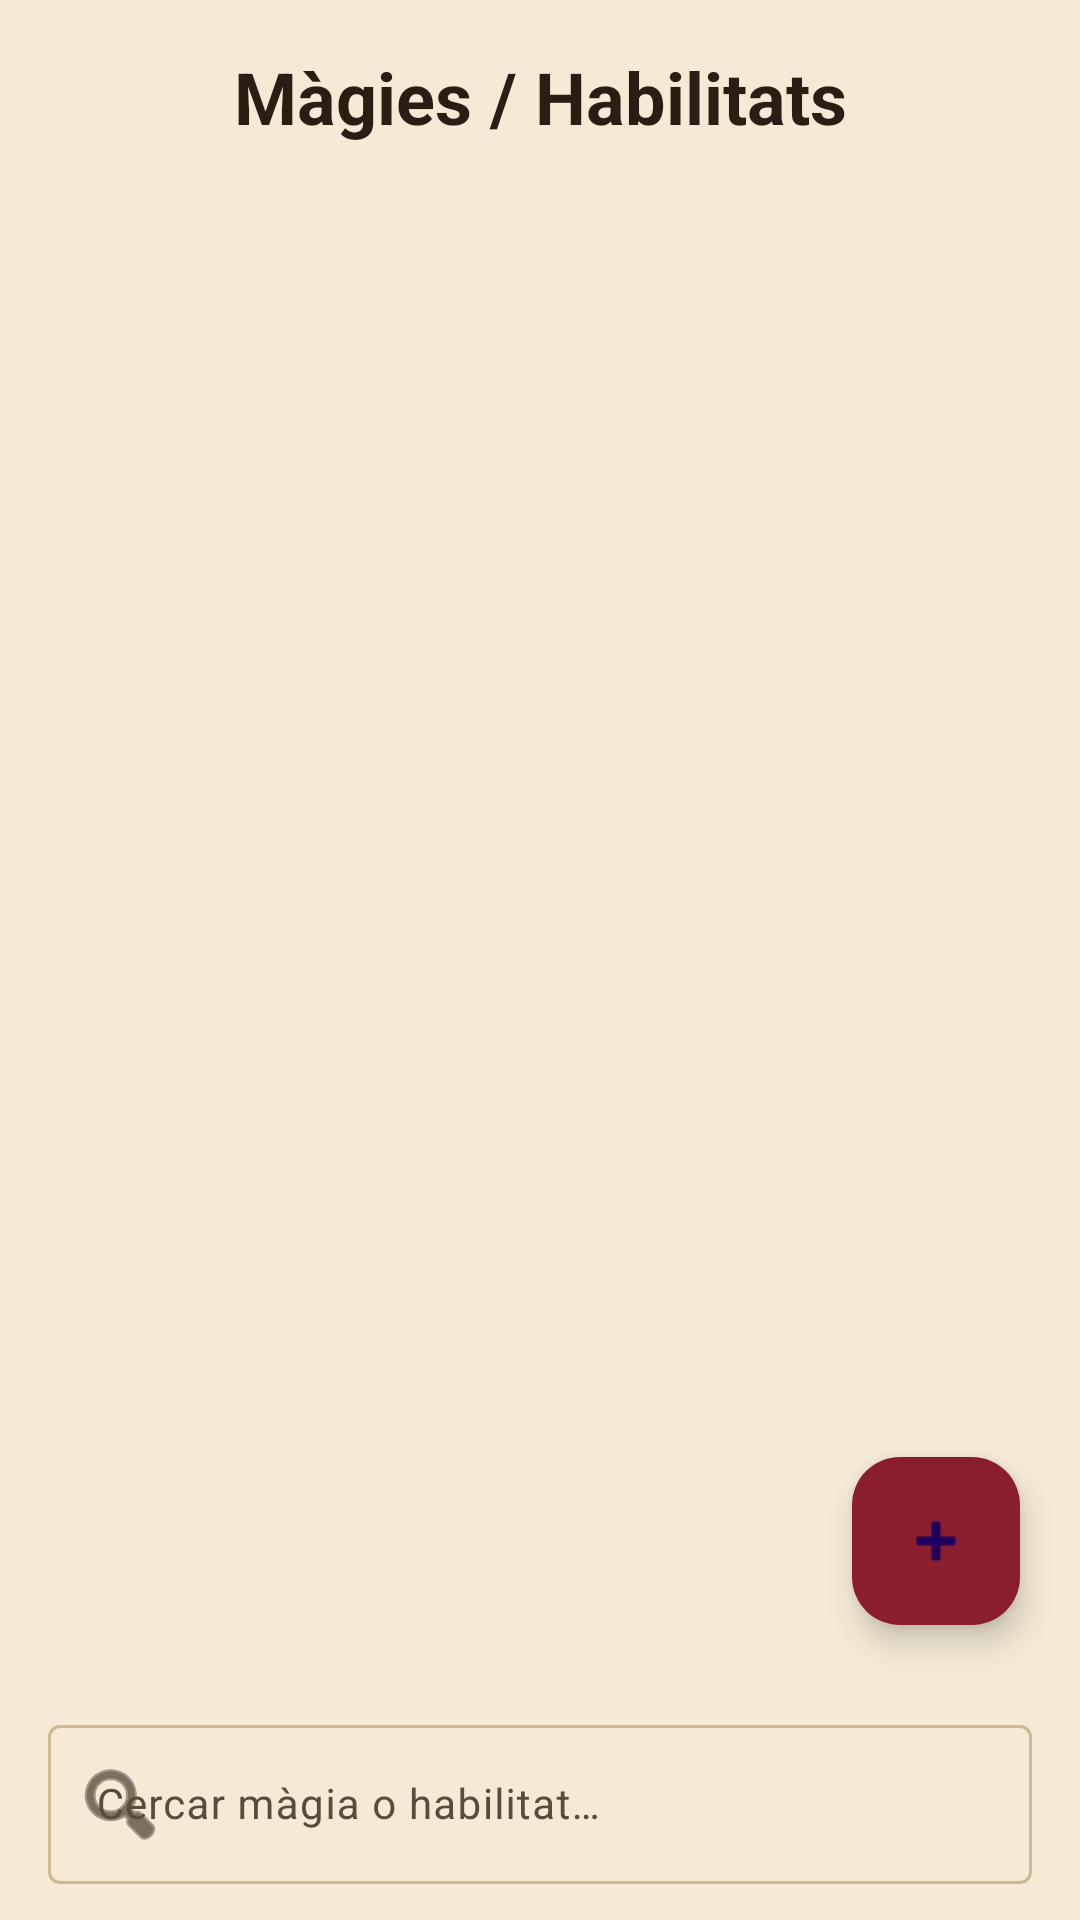

Where to tap for icons on this 1080px x 1920px app screen, as point (x, y):
Afegir màgia o habilitat: point (936, 1541)
